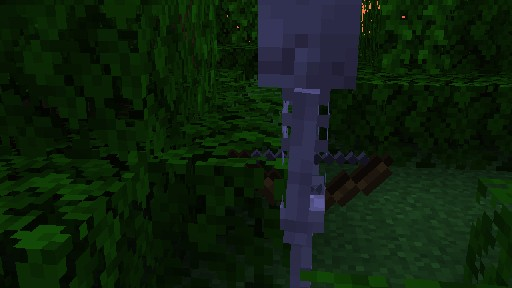skeleton: (225, 0, 394, 288)
